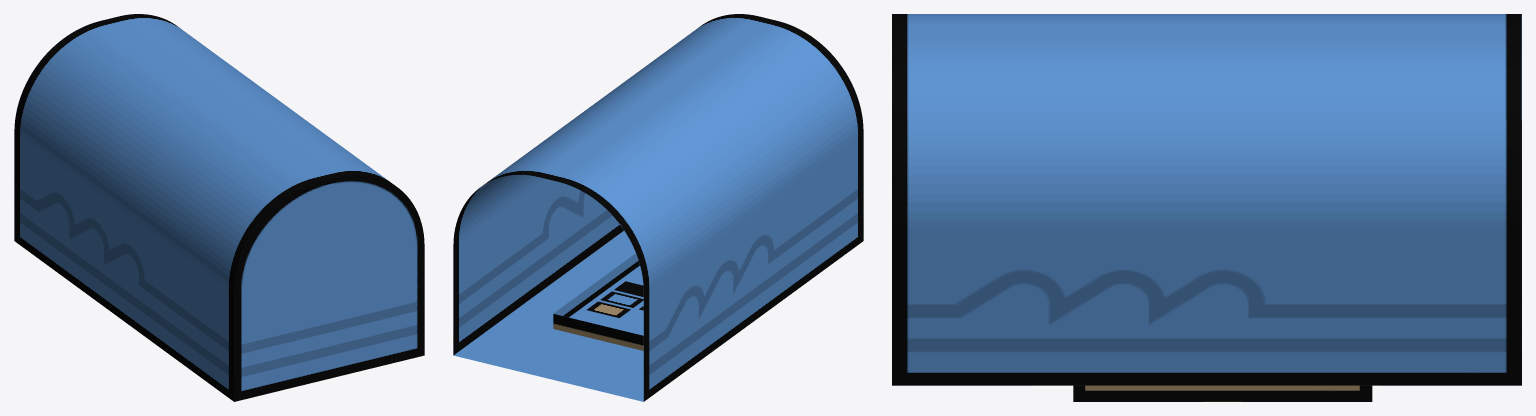
File: box-top.obj
3 views of the same model, side by side, from view 1: azimuth 30°, elevation 25°; view 2: azimuth 150°, elevation 25°; view 3: azimuth 270°, elevation 25° (orthographic). The views are drawn at different scales.
Visible parts, largest first — view 1: Cube.005_Cube.006; view 2: Cube.005_Cube.006; view 3: Cube.005_Cube.006.
Part boxes in pixels (box(x1,y1,x2,y2)): Cube.005_Cube.006: box(14, 14, 424, 401); Cube.005_Cube.006: box(453, 14, 863, 401); Cube.005_Cube.006: box(892, 14, 1521, 401).
Bounding box in the file's own units: 0.2 × 0.2347 × 0.4.
Materials: 1 (1 with a texture image).
